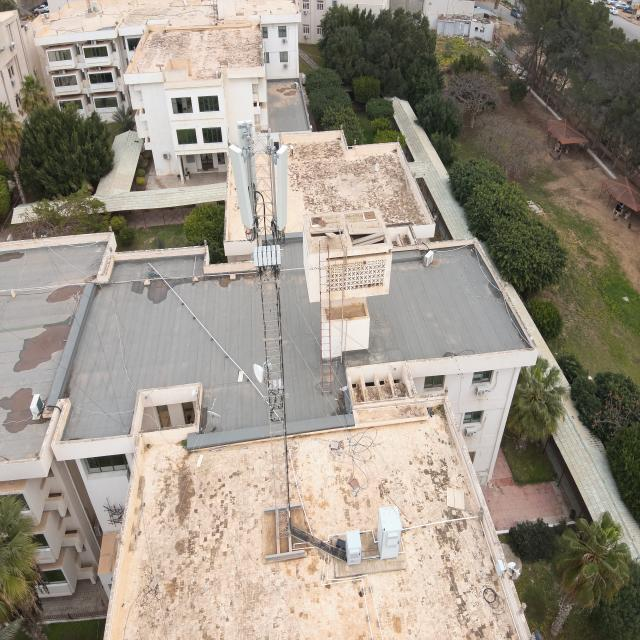antenna: (228, 144, 258, 233), (238, 120, 260, 217), (271, 140, 289, 231)
lighnig-rad: (262, 39, 270, 138)
microware-dish: (250, 356, 274, 384)
power-box: (266, 378, 291, 391)
radio-unit: (253, 244, 283, 268)
